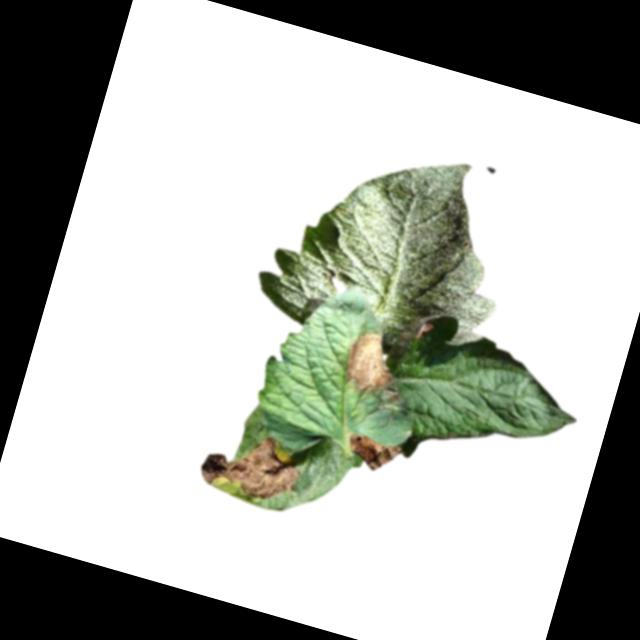Late_blight: (195, 416, 311, 517), (339, 323, 415, 402), (344, 429, 406, 477)
healthy: (249, 113, 535, 375)
